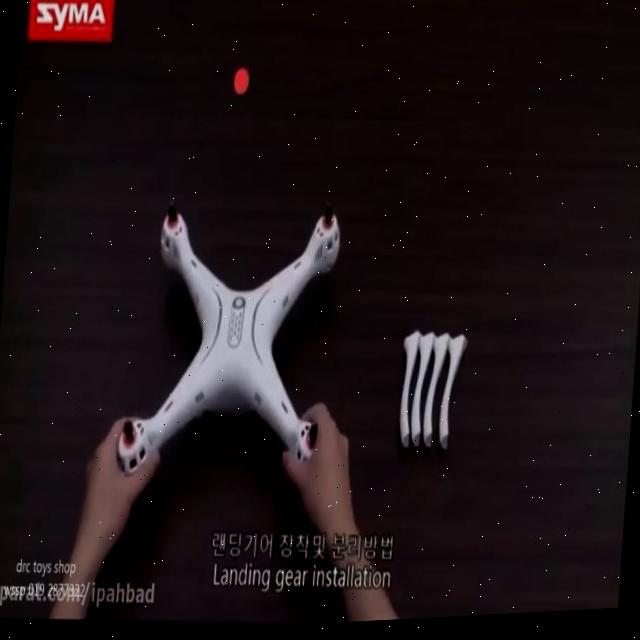drone: (112, 187, 350, 492)
